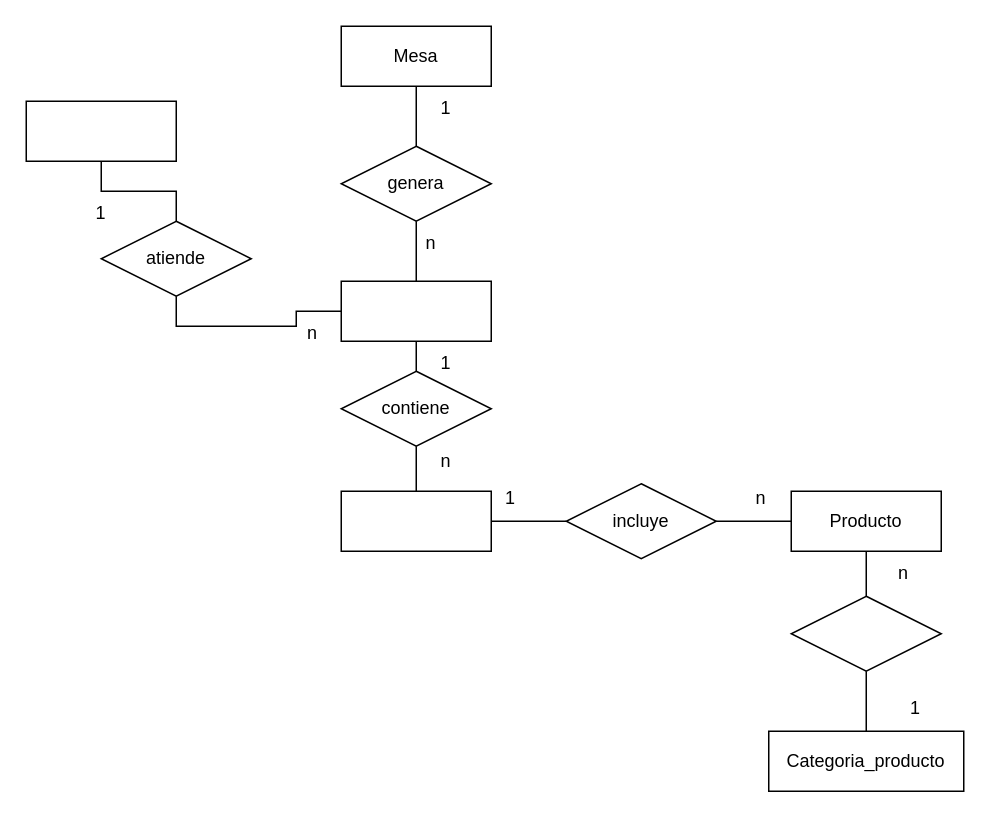
This 990x818 diagram has some shape labels left out. Here are the shapes that lost their labels. From the top down, the centre of each, then its label:
At point (100, 130): "Mozo".
At point (415, 310): "Pedido".
At point (415, 520): "Pedido_detalle".
At point (865, 633): "clasifica".
